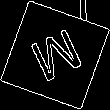M_SE: (23, 22, 87, 88)
